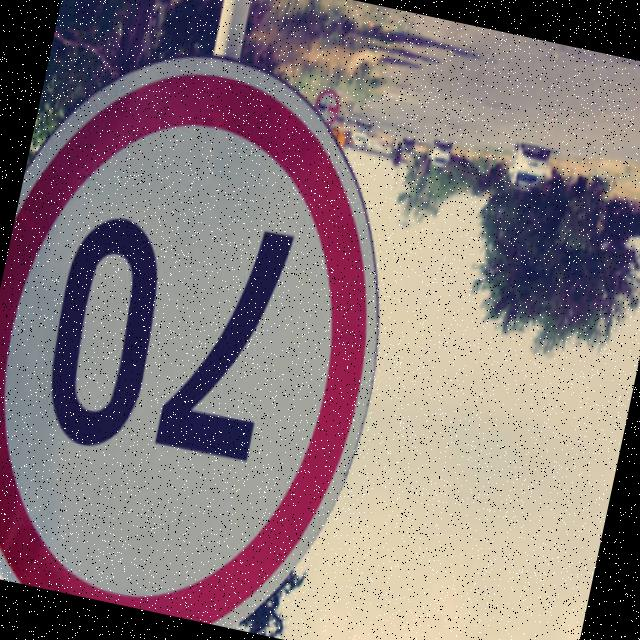speed_limit_70: (0, 25, 437, 640)
